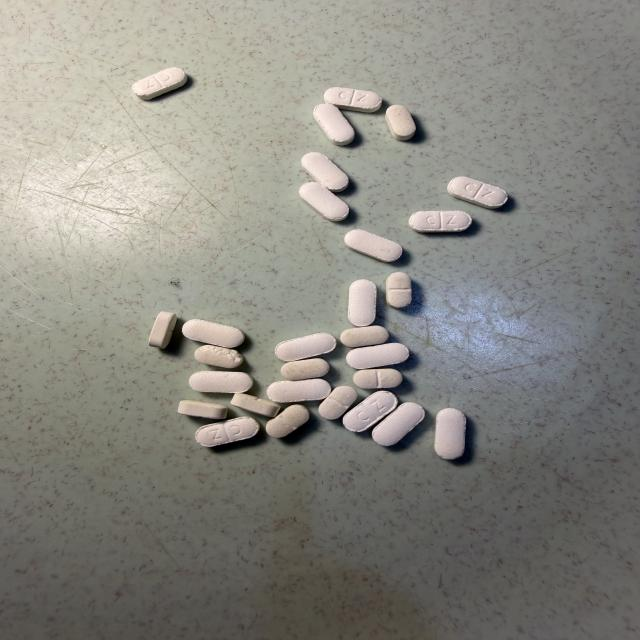pill: (372, 403, 424, 446), (343, 391, 397, 431), (299, 183, 349, 221), (301, 152, 348, 192), (447, 177, 507, 208), (196, 417, 259, 446), (345, 230, 402, 262), (183, 320, 244, 348), (275, 333, 336, 361), (132, 68, 187, 99), (314, 104, 354, 145), (347, 343, 409, 369), (435, 408, 466, 459), (267, 379, 331, 402), (189, 371, 253, 393), (324, 88, 382, 112), (266, 405, 309, 437), (409, 211, 472, 232), (348, 280, 376, 326), (319, 386, 357, 419), (231, 393, 280, 417), (195, 345, 243, 368), (281, 358, 329, 380), (386, 105, 415, 140), (340, 326, 388, 347), (149, 312, 176, 348), (178, 400, 227, 419), (353, 369, 402, 388), (386, 272, 411, 308)
